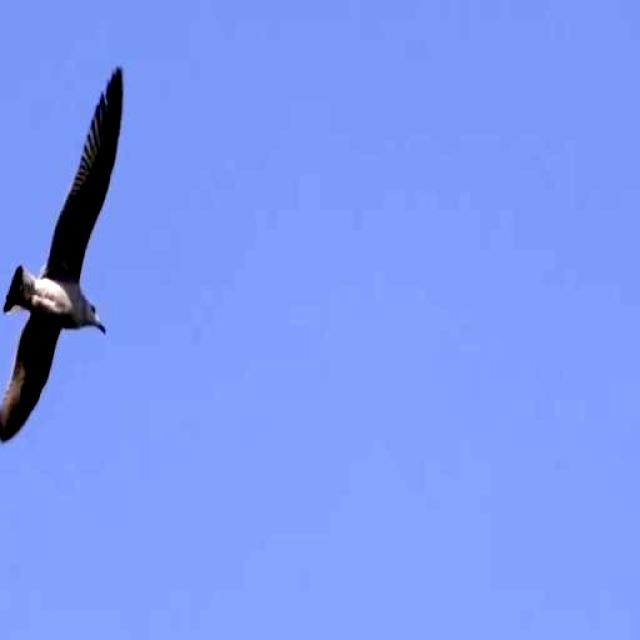airplane: (0, 60, 135, 456)
